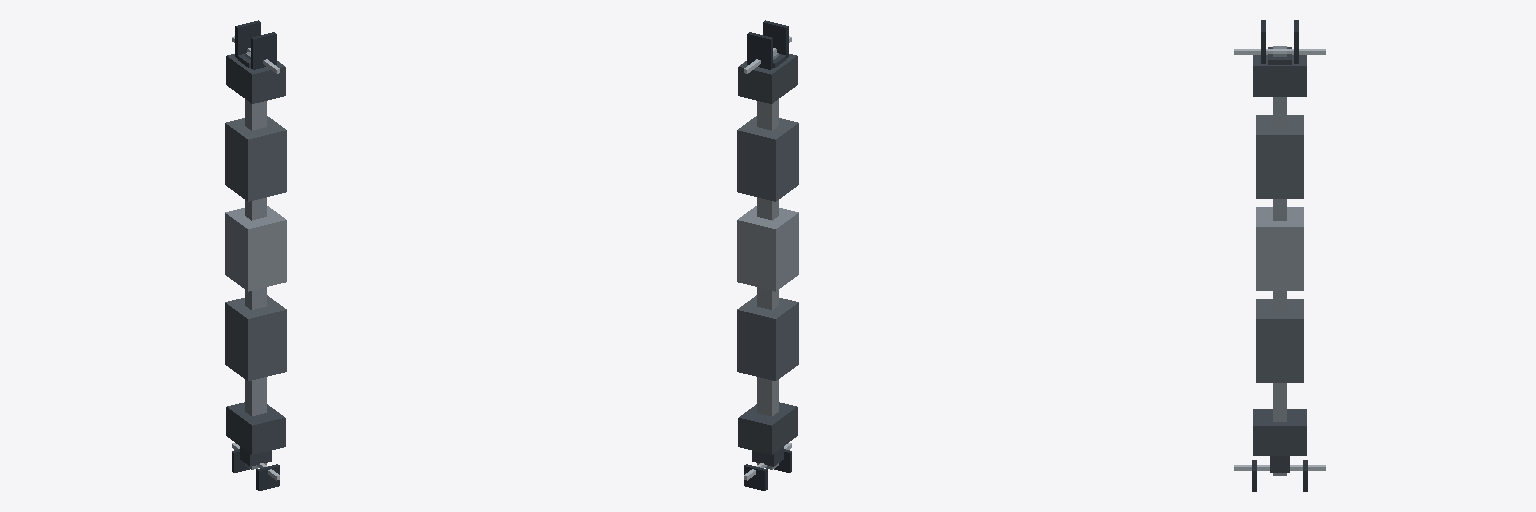
The robot description file, URDF, robot "bamboo_icd":
<?xml version="1.0" encoding="utf-8"?>
<!-- GENERATED by tools/bamboo/gen_bamboo_urdf.py - edit the generator, not this file. -->
<!-- DEVIATION: L-grip opened on one side (+y) to allow side clamping; differs from the ICD URDF (carriage/rail moved to -y). -->
<!-- ICD/LIS bamboo arm hung under the support pole. Motus world is Z-up; link frames equal the
     Motus.Viewer Three.js groups (Y-up) via the fixed pole_hang joint: Motus = Rx(+90deg) * viewer.
     Collision boxes are exactly the drawn boxes (viewer.js builds its meshes from them). -->
<robot name="bamboo_icd">
  <material name="tube"><color rgba="0.545 0.576 0.604 1"/></material>
  <material name="wrist"><color rgba="0.32 0.35 0.38 1"/></material>
  <material name="elbow"><color rgba="0.39 0.42 0.45 1"/></material>
  <material name="shoulder"><color rgba="0.56 0.59 0.62 1"/></material>
  <material name="carriage"><color rgba="0.29 0.32 0.35 1"/></material>
  <material name="rail"><color rgba="0.72 0.75 0.78 1"/></material>
  <material name="jaw"><color rgba="0.235 0.267 0.298 1"/></material>
  <!-- World origin on the ground (viewer y = 0). Environment (pole, strut, ground) is a Motus CollisionScene. -->
  <link name="base_link"/>
  <!-- viewer mount group: position (0, 0.4, 0), rotation.y = 90deg; composed with Rx(+90deg) Y-up->Z-up -->
  <joint name="pole_hang" type="fixed">
    <parent link="base_link"/>
    <child link="mount"/>
    <origin xyz="0 0 0.4" rpy="1.5707963267948966 0 1.5707963267948966"/>
  </joint>
  <link name="mount">
    <visual name="base tube">
      <origin xyz="0 -0.015 0" rpy="0 0 0"/>
      <geometry><box size="0.012 0.014 0.016"/></geometry>
      <material name="tube"/>
    </visual>
    <collision name="base tube">
      <origin xyz="0 -0.015 0" rpy="0 0 0"/>
      <geometry><box size="0.012 0.014 0.016"/></geometry>
    </collision>
    <visual name="L-grip body">
      <origin xyz="0 -0.017 0" rpy="0 0 0"/>
      <geometry><box size="0.02 0.012 0.026"/></geometry>
      <material name="carriage"/>
    </visual>
    <collision name="L-grip body">
      <origin xyz="0 -0.017 0" rpy="0 0 0"/>
      <geometry><box size="0.02 0.012 0.026"/></geometry>
    </collision>
    <visual name="L-grip rail">
      <origin xyz="0 -0.0095 0" rpy="0 0 0"/>
      <geometry><box size="0.08 0.004 0.004"/></geometry>
      <material name="rail"/>
    </visual>
    <collision name="L-grip rail">
      <origin xyz="0 -0.0095 0" rpy="0 0 0"/>
      <geometry><box size="0.08 0.004 0.004"/></geometry>
    </collision>
    <visual name="L-grip jaw-">
      <origin xyz="-0.014 0 0" rpy="0 0 0"/>
      <geometry><box size="0.0045 0.03 0.024"/></geometry>
      <material name="jaw"/>
    </visual>
    <collision name="L-grip jaw-">
      <origin xyz="-0.014 0 0" rpy="0 0 0"/>
      <geometry><box size="0.0045 0.03 0.024"/></geometry>
    </collision>
    <visual name="L-grip jaw+">
      <origin xyz="0.014 0 0" rpy="0 0 0"/>
      <geometry><box size="0.0045 0.03 0.024"/></geometry>
      <material name="jaw"/>
    </visual>
    <collision name="L-grip jaw+">
      <origin xyz="0.014 0 0" rpy="0 0 0"/>
      <geometry><box size="0.0045 0.03 0.024"/></geometry>
    </collision>
  </link>
  <joint name="joint_1" type="revolute">
    <parent link="mount"/>
    <child link="link_1"/>
    <origin xyz="0 -0.03 0" rpy="0 0 0"/>
    <axis xyz="0 1 0"/>
    <limit lower="-2.967060" upper="2.967060" effort="10" velocity="2.0"/>
  </joint>
  <link name="link_1">
    <visual name="θ1">
      <origin xyz="0 0 0" rpy="0 0 0"/>
      <geometry><box size="0.046 0.029 0.034"/></geometry>
      <material name="wrist"/>
    </visual>
    <collision name="θ1">
      <origin xyz="0 0 0" rpy="0 0 0"/>
      <geometry><box size="0.046 0.029 0.034"/></geometry>
    </collision>
    <visual name="link θ2">
      <origin xyz="0 -0.04 0" rpy="0 0 0"/>
      <geometry><box size="0.012 0.064 0.016"/></geometry>
      <material name="tube"/>
    </visual>
    <collision name="link θ2">
      <origin xyz="0 -0.04 0" rpy="0 0 0"/>
      <geometry><box size="0.012 0.064 0.016"/></geometry>
    </collision>
  </link>
  <joint name="joint_2" type="revolute">
    <parent link="link_1"/>
    <child link="link_2"/>
    <origin xyz="0 -0.08 0" rpy="0 0 0"/>
    <axis xyz="1 0 0"/>
    <limit lower="-1.570796" upper="1.570796" effort="10" velocity="2.0"/>
  </joint>
  <link name="link_2">
    <visual name="θ2">
      <origin xyz="0 0 0" rpy="0 0 0"/>
      <geometry><box size="0.041 0.061 0.04"/></geometry>
      <material name="elbow"/>
    </visual>
    <collision name="θ2">
      <origin xyz="0 0 0" rpy="0 0 0"/>
      <geometry><box size="0.041 0.061 0.04"/></geometry>
    </collision>
    <visual name="link θ3">
      <origin xyz="0 -0.044 0" rpy="0 0 0"/>
      <geometry><box size="0.012 0.072 0.016"/></geometry>
      <material name="tube"/>
    </visual>
    <collision name="link θ3">
      <origin xyz="0 -0.044 0" rpy="0 0 0"/>
      <geometry><box size="0.012 0.072 0.016"/></geometry>
    </collision>
  </link>
  <joint name="joint_3" type="revolute">
    <parent link="link_2"/>
    <child link="link_3"/>
    <origin xyz="0 -0.088 0" rpy="0 0 0"/>
    <axis xyz="1 0 0"/>
    <limit lower="-2.356194" upper="2.356194" effort="10" velocity="2.0"/>
  </joint>
  <link name="link_3">
    <visual name="θ3">
      <origin xyz="0 0 0" rpy="0 0 0"/>
      <geometry><box size="0.041 0.061 0.04"/></geometry>
      <material name="shoulder"/>
    </visual>
    <collision name="θ3">
      <origin xyz="0 0 0" rpy="0 0 0"/>
      <geometry><box size="0.041 0.061 0.04"/></geometry>
    </collision>
    <visual name="link θ4">
      <origin xyz="0 -0.044 0" rpy="0 0 0"/>
      <geometry><box size="0.012 0.072 0.016"/></geometry>
      <material name="tube"/>
    </visual>
    <collision name="link θ4">
      <origin xyz="0 -0.044 0" rpy="0 0 0"/>
      <geometry><box size="0.012 0.072 0.016"/></geometry>
    </collision>
  </link>
  <joint name="joint_4" type="revolute">
    <parent link="link_3"/>
    <child link="link_4"/>
    <origin xyz="0 -0.088 0" rpy="0 0 0"/>
    <axis xyz="1 0 0"/>
    <limit lower="-1.570796" upper="1.570796" effort="10" velocity="2.0"/>
  </joint>
  <link name="link_4">
    <visual name="θ4">
      <origin xyz="0 0 0" rpy="0 0 0"/>
      <geometry><box size="0.041 0.061 0.04"/></geometry>
      <material name="elbow"/>
    </visual>
    <collision name="θ4">
      <origin xyz="0 0 0" rpy="0 0 0"/>
      <geometry><box size="0.041 0.061 0.04"/></geometry>
    </collision>
    <visual name="link θ5">
      <origin xyz="0 -0.044 0" rpy="0 0 0"/>
      <geometry><box size="0.012 0.072 0.016"/></geometry>
      <material name="tube"/>
    </visual>
    <collision name="link θ5">
      <origin xyz="0 -0.044 0" rpy="0 0 0"/>
      <geometry><box size="0.012 0.072 0.016"/></geometry>
    </collision>
  </link>
  <joint name="joint_5" type="revolute">
    <parent link="link_4"/>
    <child link="link_5"/>
    <origin xyz="0 -0.088 0" rpy="0 0 0"/>
    <axis xyz="0 1 0"/>
    <limit lower="-2.967060" upper="2.967060" effort="10" velocity="2.0"/>
  </joint>
  <link name="link_5">
    <visual name="θ5">
      <origin xyz="0 0 0" rpy="0 0 0"/>
      <geometry><box size="0.046 0.029 0.034"/></geometry>
      <material name="wrist"/>
    </visual>
    <collision name="θ5">
      <origin xyz="0 0 0" rpy="0 0 0"/>
      <geometry><box size="0.046 0.029 0.034"/></geometry>
    </collision>
    <visual name="neck">
      <origin xyz="0 -0.024 0" rpy="0 0 0"/>
      <geometry><box size="0.012 0.028 0.016"/></geometry>
      <material name="tube"/>
    </visual>
    <collision name="neck">
      <origin xyz="0 -0.024 0" rpy="0 0 0"/>
      <geometry><box size="0.012 0.028 0.016"/></geometry>
    </collision>
    <visual name="R-grip carriage">
      <origin xyz="0 -0.024 0" rpy="0 0 0"/>
      <geometry><box size="0.018 0.018 0.022"/></geometry>
      <material name="carriage"/>
    </visual>
    <collision name="R-grip carriage">
      <origin xyz="0 -0.024 0" rpy="0 0 0"/>
      <geometry><box size="0.018 0.018 0.022"/></geometry>
    </collision>
    <visual name="R-grip rail">
      <origin xyz="0 -0.034 0" rpy="0 0 0"/>
      <geometry><box size="0.08 0.004 0.004"/></geometry>
      <material name="rail"/>
    </visual>
    <collision name="R-grip rail">
      <origin xyz="0 -0.034 0" rpy="0 0 0"/>
      <geometry><box size="0.08 0.004 0.004"/></geometry>
    </collision>
    <visual name="R-grip jaw-">
      <origin xyz="-0.022 -0.041 0" rpy="0 0 0"/>
      <geometry><box size="0.0045 0.02 0.022"/></geometry>
      <material name="jaw"/>
    </visual>
    <collision name="R-grip jaw-">
      <origin xyz="-0.022 -0.041 0" rpy="0 0 0"/>
      <geometry><box size="0.0045 0.02 0.022"/></geometry>
    </collision>
    <visual name="R-grip jaw+">
      <origin xyz="0.022 -0.041 0" rpy="0 0 0"/>
      <geometry><box size="0.0045 0.02 0.022"/></geometry>
      <material name="jaw"/>
    </visual>
    <collision name="R-grip jaw+">
      <origin xyz="0.022 -0.041 0" rpy="0 0 0"/>
      <geometry><box size="0.0045 0.02 0.022"/></geometry>
    </collision>
  </link>
  <!-- Jaw / TCP frame = viewer jaw group (grasp plane origin). -->
  <joint name="tool_joint" type="fixed">
    <parent link="link_5"/>
    <child link="tool0"/>
    <origin xyz="0 -0.046 0" rpy="0 0 0"/>
  </joint>
  <link name="tool0"/>
</robot>

--- Render facts (derived) ---
The picture shows the robot from 3 angles, left to right: view 1: azimuth 30°, elevation 25°; view 2: azimuth 150°, elevation 25°; view 3: azimuth 270°, elevation 25°; orthographic projection.
Robot: bamboo_icd — 8 links, 7 joints (5 revolute, 2 fixed); root link base_link; default pose: every joint at zero.
Visible links, largest first — view 1: link_4, link_3, link_2, link_5, link_1, mount; view 2: link_4, link_3, link_2, link_5, link_1, mount; view 3: link_4, link_2, link_3, link_5, link_1, mount.
Boxes of the visible links, box(x1,y1,x2,y2) form: link_4: box(225, 295, 286, 415); link_3: box(225, 206, 286, 309); link_2: box(225, 116, 286, 220); link_5: box(226, 402, 285, 490); link_1: box(226, 54, 285, 130); mount: box(232, 20, 279, 73); link_4: box(737, 295, 798, 415); link_3: box(737, 206, 798, 309); link_2: box(737, 116, 798, 220); link_5: box(738, 402, 797, 490); link_1: box(738, 54, 797, 130); mount: box(744, 20, 791, 73); link_4: box(1256, 299, 1303, 421); link_2: box(1256, 115, 1303, 220); link_3: box(1256, 207, 1303, 312); link_5: box(1234, 409, 1325, 491); link_1: box(1253, 55, 1306, 128); mount: box(1234, 20, 1325, 64).
Size in the robot's own frame: 0.04 by 0.08 by 0.44 metres.
Geometry: primitives only (box / cylinder / sphere), no mesh files.
